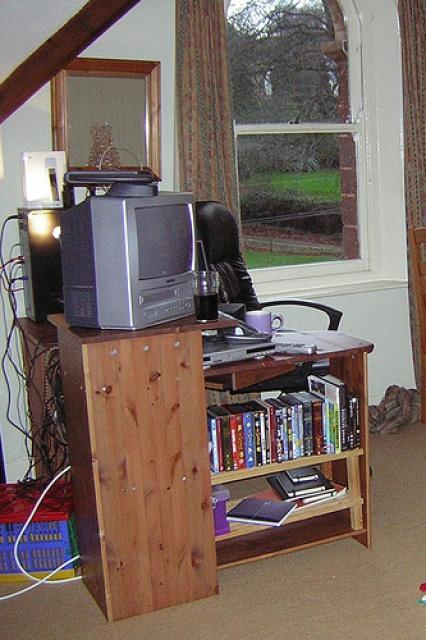Rak: (202, 328, 377, 578)
